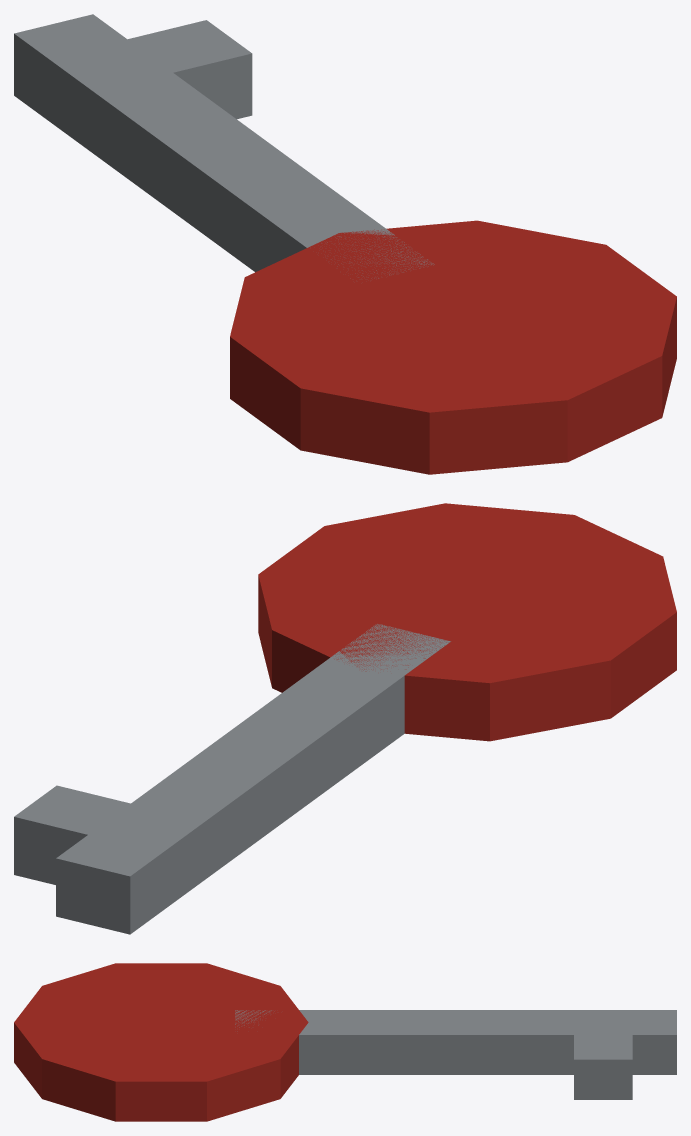
The model's file is roof_key.glb.
3 renders of one model, top to bottom at view 1: azimuth 30°, elevation 25°; view 2: azimuth 150°, elevation 25°; view 3: azimuth 270°, elevation 25°, orthographic. The views are drawn at different scales.
Visible parts, largest first — view 1: roof_key; view 2: roof_key; view 3: roof_key.
Boxes of the visible parts, x1,y1,x2,y2 form: roof_key: (14, 14, 676, 474); roof_key: (14, 503, 676, 934); roof_key: (14, 963, 676, 1121).
Size of the model in its own units: 0.038 by 0.006 by 0.09.
